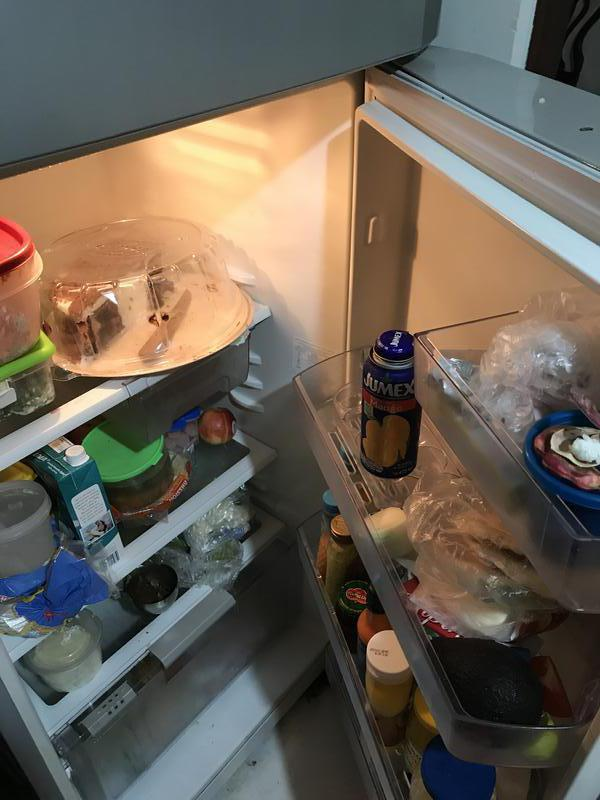jugo_jumex: (361, 329, 421, 479)
